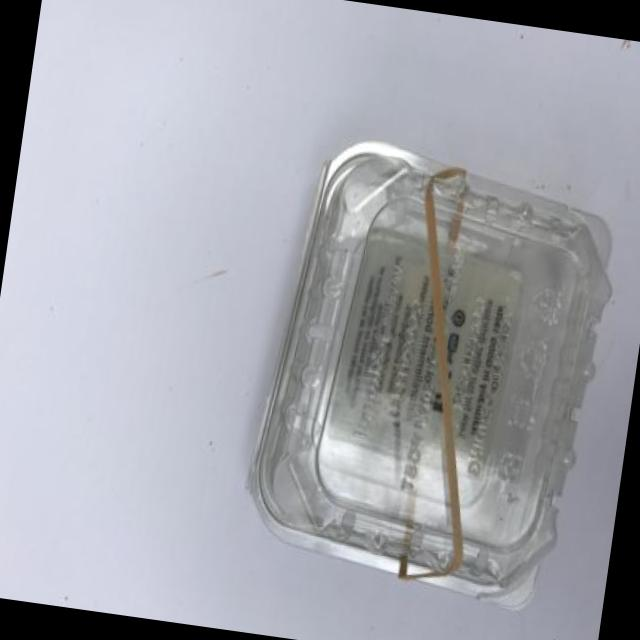Clamshell: (222, 118, 638, 631)
Label: (327, 227, 535, 465)
